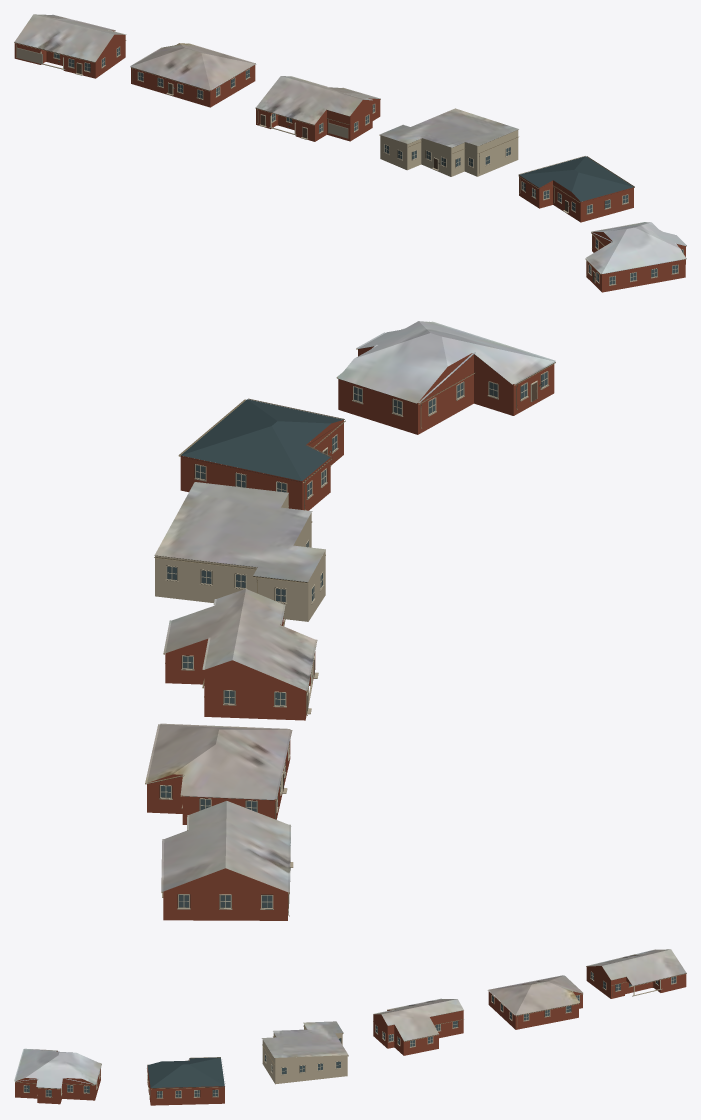
3 renders of one model, top to bottom at view 1: azimuth 30°, elevation 25°; view 2: azimuth 150°, elevation 25°; view 3: azimuth 270°, elevation 25°, orthographic. The views are drawn at different scales.
Visible parts, largest first — view 1: -2_11_608401548_22, -2_11_608401551_25, -2_11_608401552_26; view 2: -2_11_608401548_22, -2_11_608401552_26, -2_11_608401551_25; view 3: -2_11_608401548_22, -2_11_608401552_26, -2_11_608401551_25.
Part boxes in pixels (x1=…): -2_11_608401548_22: x1=14, y1=14, x2=686, y2=292; -2_11_608401551_25: x1=380, y1=130, x2=518, y2=176; -2_11_608401552_26: x1=519, y1=156, x2=633, y2=201; -2_11_608401548_22: x1=145, y1=321, x2=555, y2=920; -2_11_608401552_26: x1=181, y1=399, x2=343, y2=480; -2_11_608401551_25: x1=155, y1=494, x2=325, y2=621; -2_11_608401548_22: x1=14, y1=949, x2=686, y2=1105; -2_11_608401552_26: x1=147, y1=1057, x2=224, y2=1087; -2_11_608401551_25: x1=262, y1=1025, x2=347, y2=1084.
Size of the model in its own units: 74.62 by 10.1 by 158.
12 materials, 1 textured.
